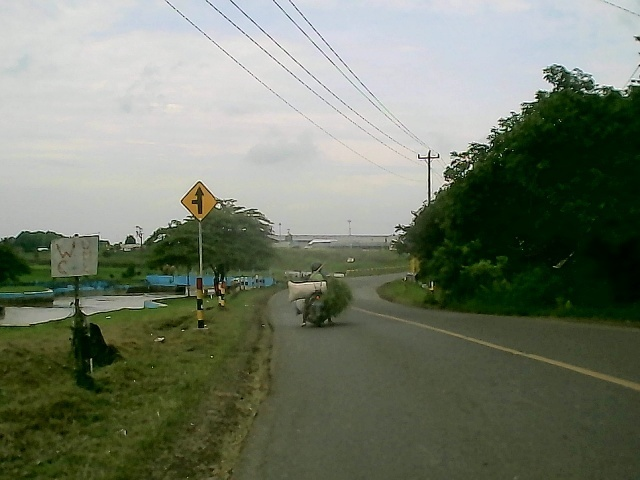Simpang kiri dengan prioritas: (178, 180, 219, 223)
